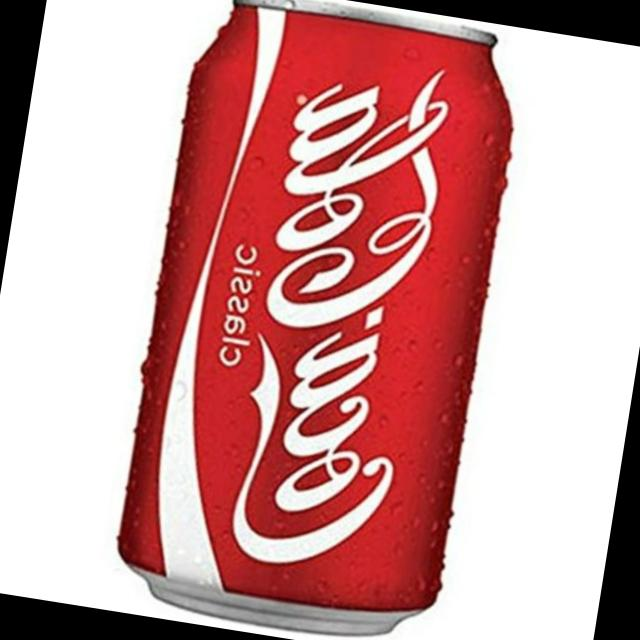cocacola: (101, 0, 535, 640)
